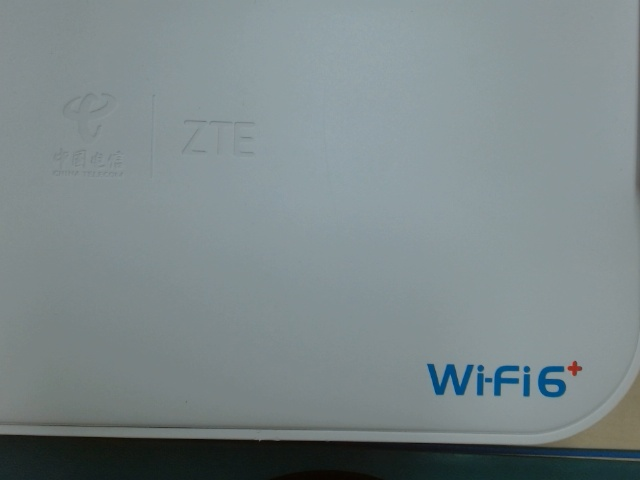AJ_ZTEWIFI6Plus: (420, 350, 590, 404)
